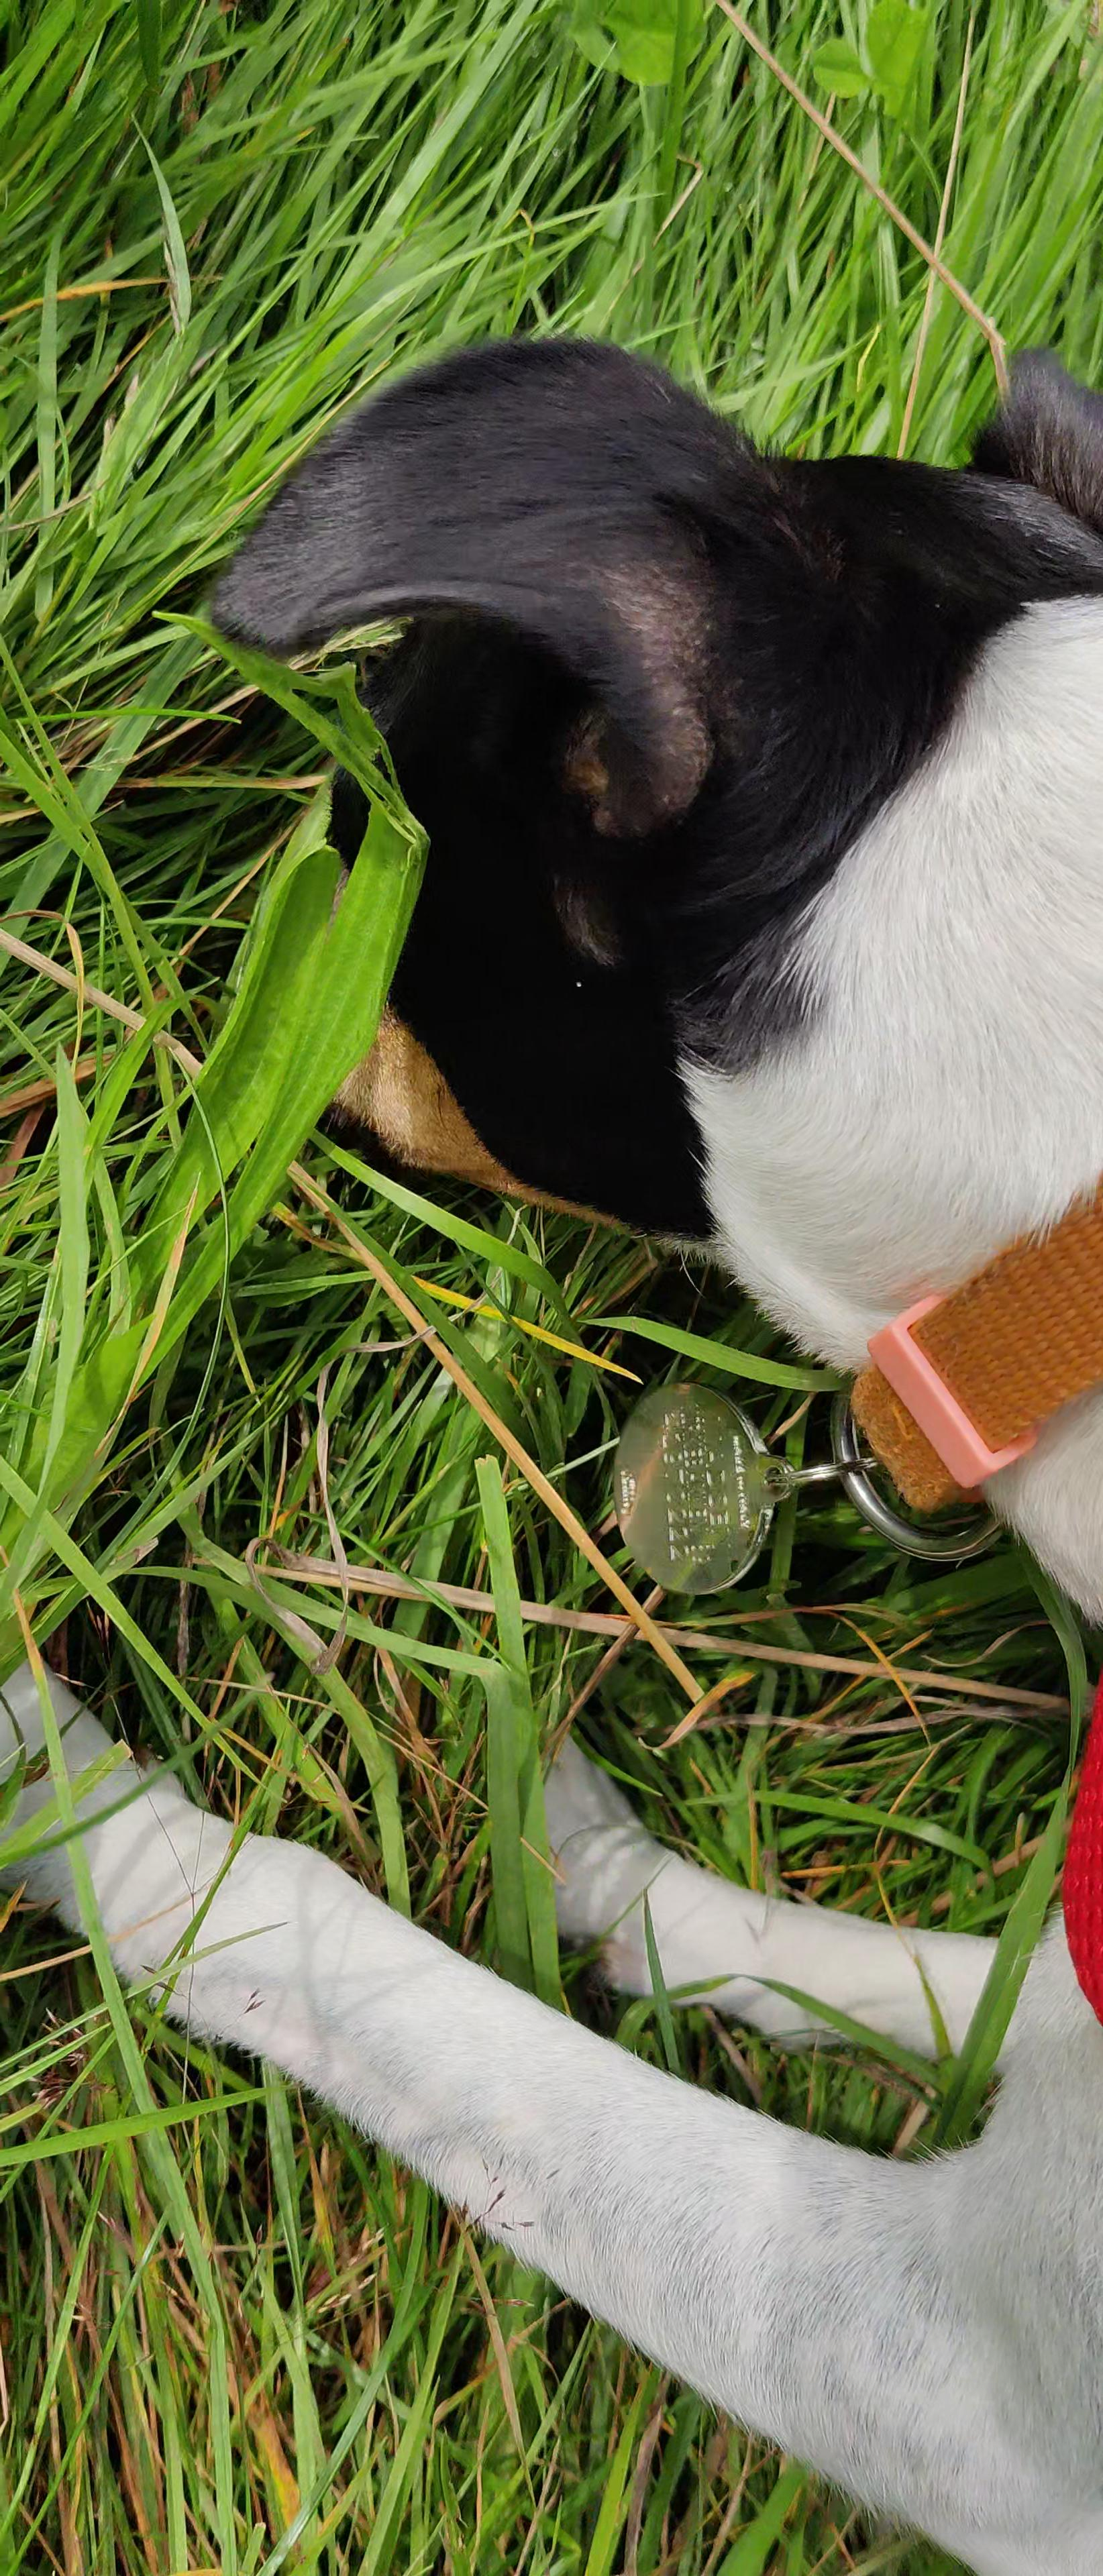Dog: (0, 299, 1103, 2576)
